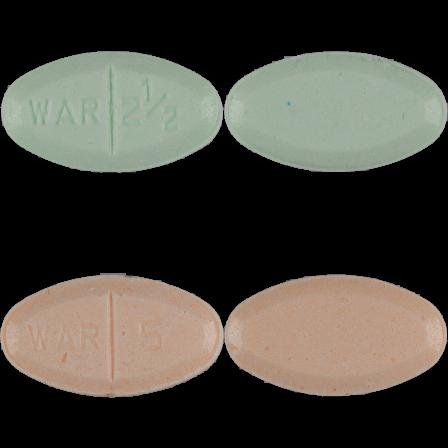50436-6360: (0, 0, 224, 224)
